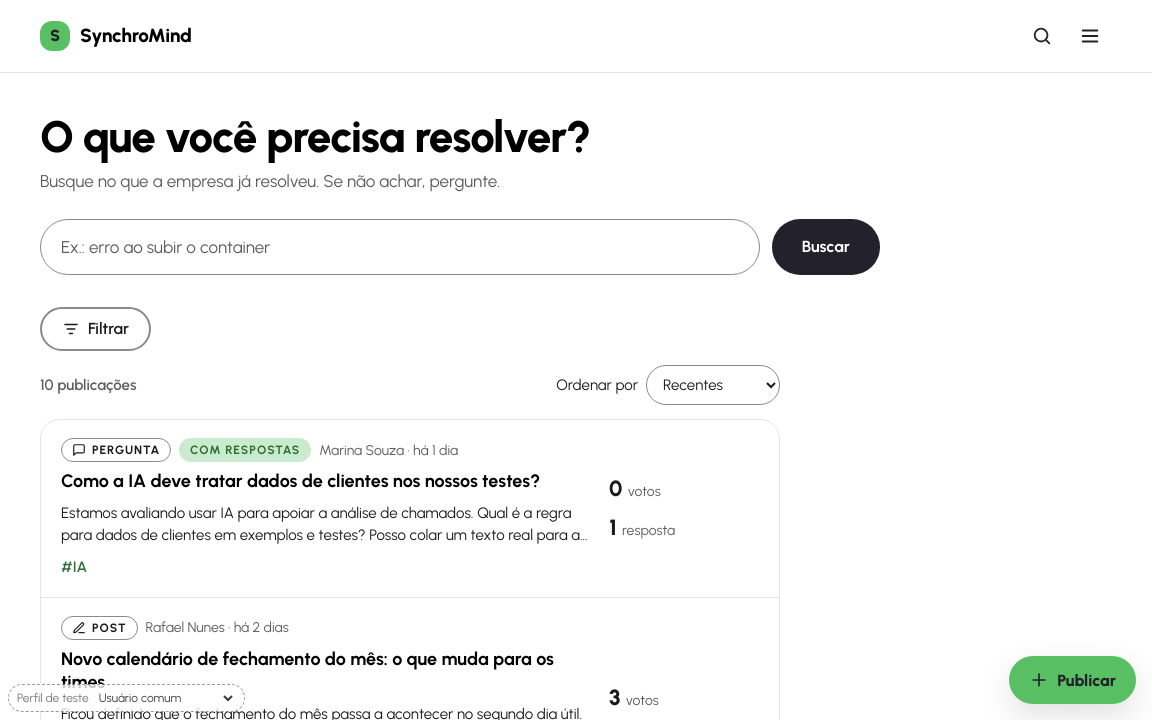
Scenario: celular (360 px) › mostra o botão "Publicar" com a folha de três opções e o menu com o botão de buscar
Expected: the heading "O que você precisa resolver?" is shown, x1=40 y1=110 x2=591 y2=163
Expected: the button named "Ir para a busca" is shown, x1=1020 y1=14 x2=1064 y2=58
Click the button "Publicar" at [1073, 680], box x1=1009 y1=656 x2=1136 y2=704
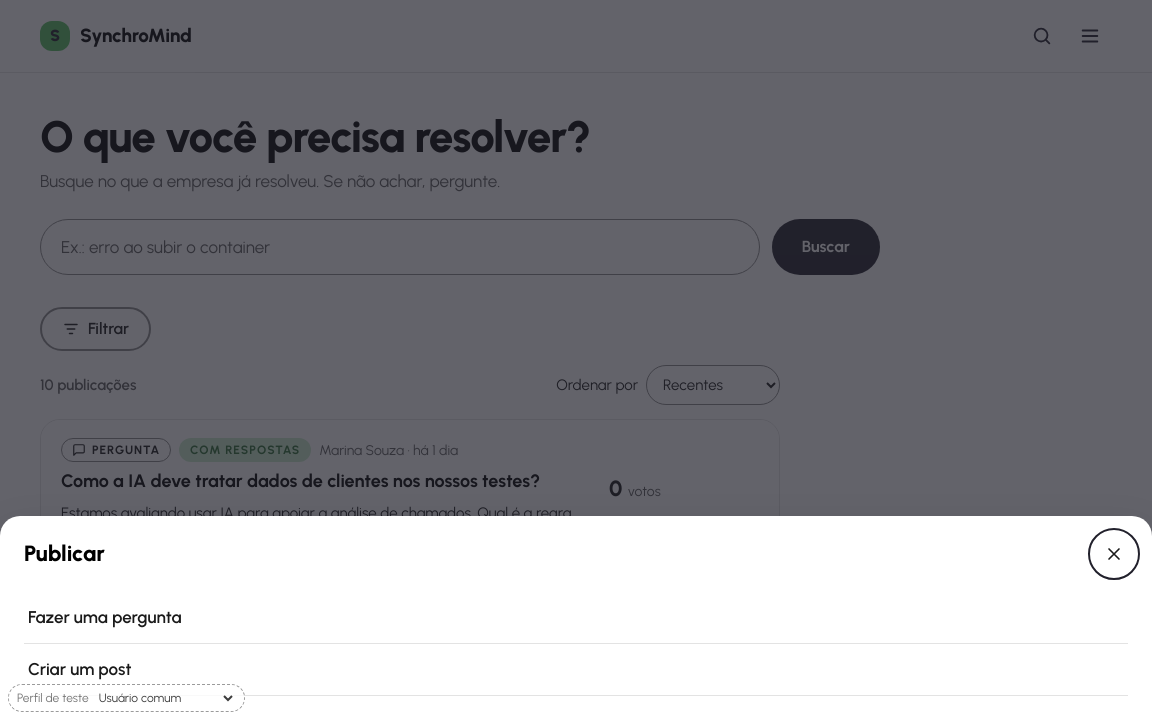
Expected: the link "Fazer uma pergunta" is shown, x1=24 y1=592 x2=1128 y2=644
